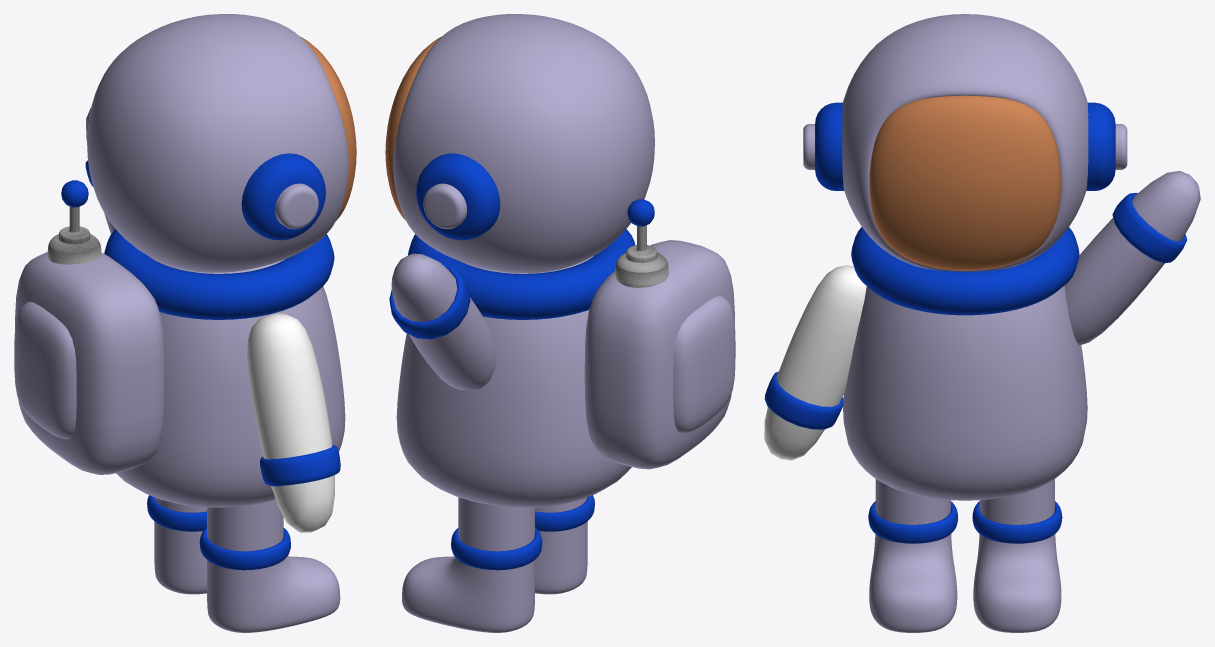
The model's file is astronout2.obj.
The picture shows the model from 3 angles, left to right: view 1: azimuth 30°, elevation 25°; view 2: azimuth 150°, elevation 25°; view 3: azimuth 270°, elevation 25°; orthographic projection.
Visible parts, largest first — view 1: Head, Body, Bag, Legs, Hands.001, Torus, Cube.008, Cylinder.001, Cube.003, Cube.012, Cylinder, Glass (+2 smaller); view 2: Head, Body, Bag, Legs, Hands, Torus, Cube.008, Cylinder.001, Cube.003, Cylinder, Cube.005, Glass (+2 smaller); view 3: Body, Glass, Head, Legs, Torus, Hands, Hands.001, Cylinder.001, Cube.003, Cube.005, Cube.012, Cylinder.002.
Boxes of the visible parts, <box> form: Head: <box>87,14,348,272</box>; Body: <box>116,255,345,507</box>; Bag: <box>15,252,164,474</box>; Legs: <box>154,497,340,632</box>; Hands.001: <box>247,313,334,532</box>; Torus: <box>104,229,334,319</box>; Cube.008: <box>14,301,76,439</box>; Cylinder.001: <box>241,153,325,240</box>; Cube.003: <box>147,495,290,570</box>; Cube.012: <box>260,444,340,486</box>; Cylinder: <box>47,206,101,264</box>; Glass: <box>300,36,356,220</box>; Head: <box>393,14,654,273</box>; Body: <box>396,256,631,507</box>; Bag: <box>584,240,734,469</box>; Legs: <box>402,497,587,632</box>; Hands: <box>391,253,496,390</box>; Torus: <box>408,229,635,319</box>; Cube.008: <box>673,296,735,433</box>; Cylinder.001: <box>416,153,500,240</box>; Cube.003: <box>451,495,594,570</box>; Cylinder: <box>615,225,668,287</box>; Cube.005: <box>389,261,470,339</box>; Glass: <box>385,36,441,219</box>; Body: <box>843,286,1087,500</box>; Glass: <box>869,95,1060,270</box>; Head: <box>842,14,1088,271</box>; Legs: <box>869,479,1061,632</box>; Torus: <box>851,227,1079,315</box>; Hands: <box>1064,171,1200,345</box>; Hands.001: <box>764,265,866,460</box>; Cylinder.001: <box>815,102,1115,190</box>; Cube.003: <box>868,501,1062,543</box>; Cube.005: <box>1112,193,1187,263</box>; Cube.012: <box>764,371,843,429</box>; Cylinder.002: <box>803,124,1127,169</box>.
Bounding box in the file's own units: 1.97 × 3.56 × 2.48.
